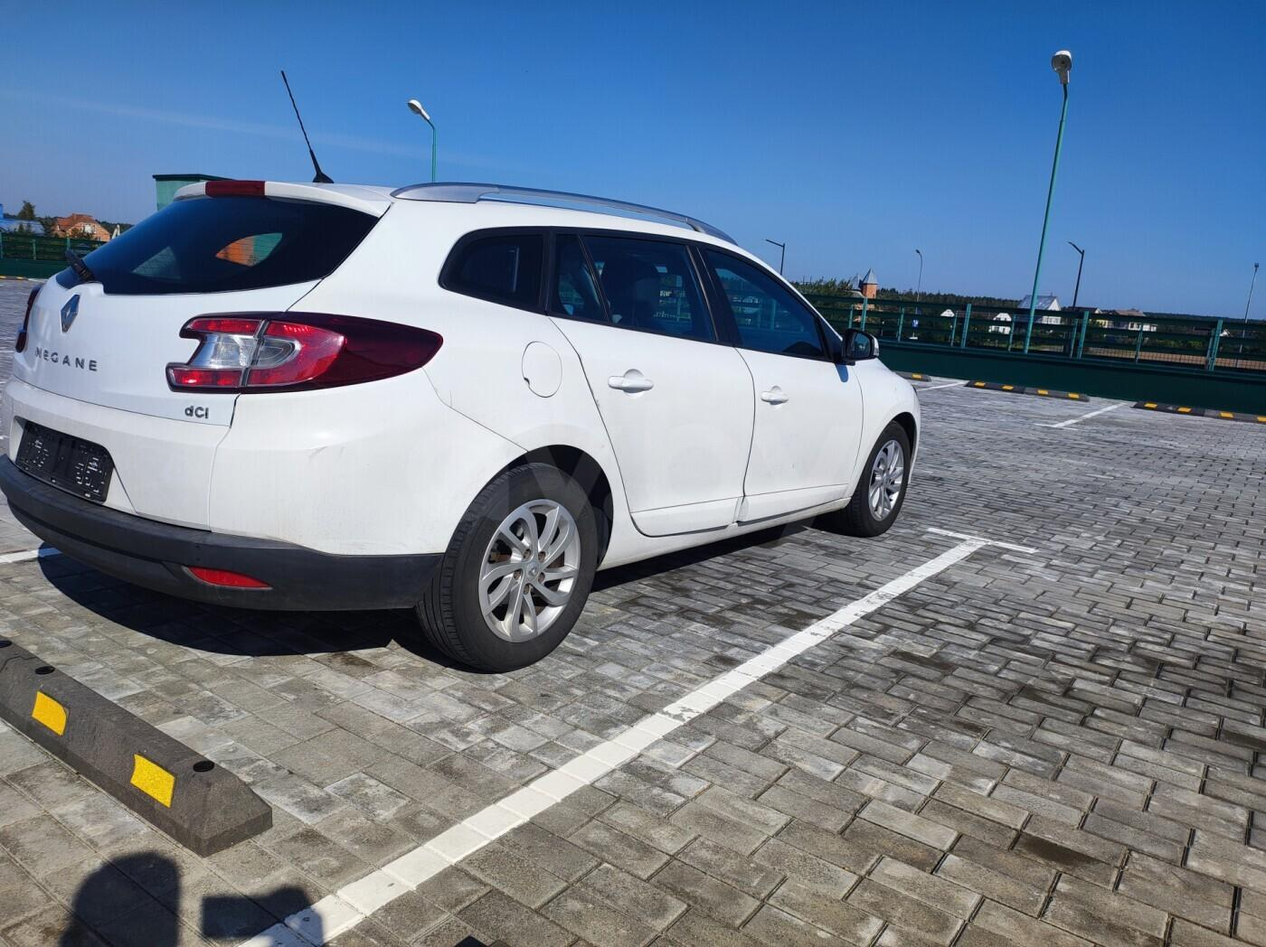Megane_2012-2014: (3, 169, 928, 673)
